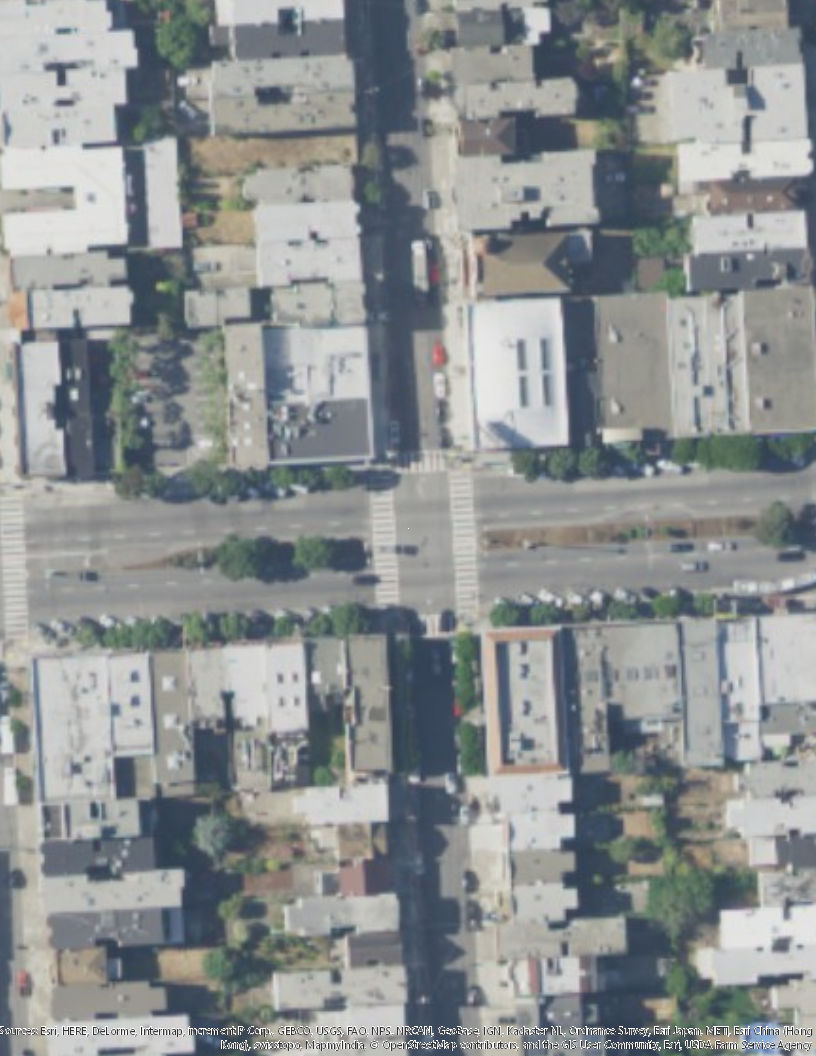zebracross: (449, 474, 482, 612), (1, 497, 31, 637), (369, 473, 400, 603), (394, 448, 449, 474)
